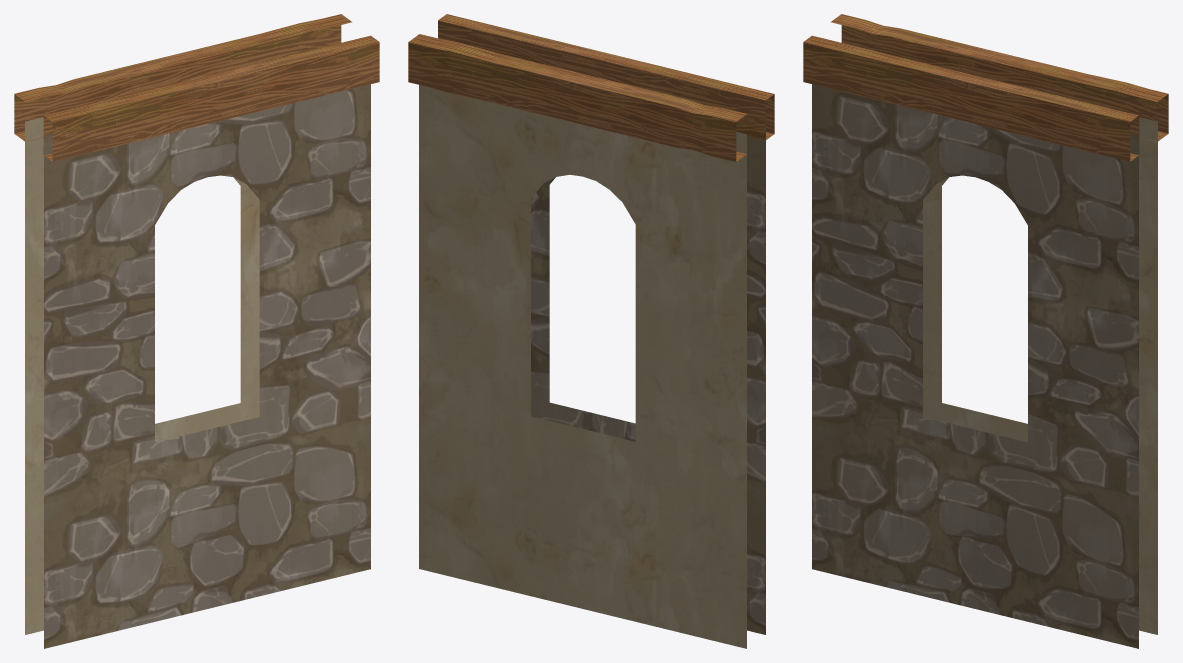
Rendered from Wall_UnevenBrick_Window_Thin_Round.gltf.
The picture shows the model from 3 angles, left to right: view 1: azimuth 30°, elevation 25°; view 2: azimuth 150°, elevation 25°; view 3: azimuth 330°, elevation 25°; orthographic projection.
Parts seen in each view (by area): view 1: Wall_UnevenBrick_Window_Thin_Round; view 2: Wall_UnevenBrick_Window_Thin_Round; view 3: Wall_UnevenBrick_Window_Thin_Round.
Boxes of the visible parts, x1,y1,x2,y2 form: Wall_UnevenBrick_Window_Thin_Round: (14, 14, 379, 648); Wall_UnevenBrick_Window_Thin_Round: (408, 14, 774, 648); Wall_UnevenBrick_Window_Thin_Round: (803, 14, 1168, 648).
Bounding box in the file's own units: 2 × 3.12 × 0.4065.
3 materials, 3 textured.
